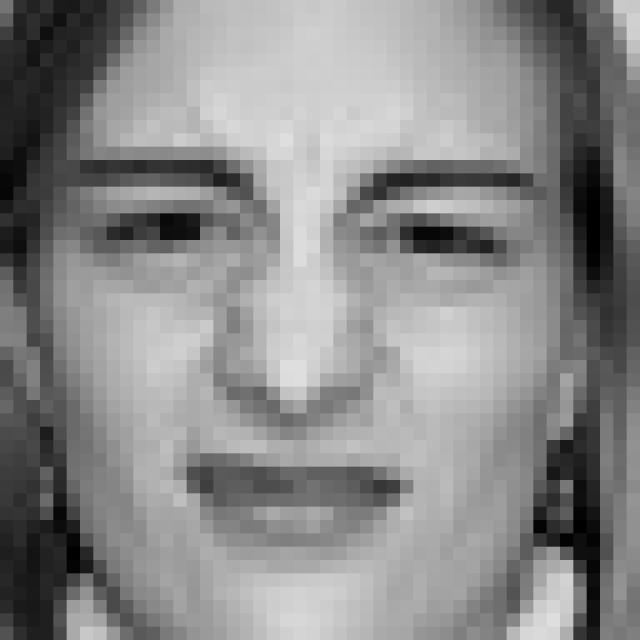disgust: (64, 146, 550, 572)
